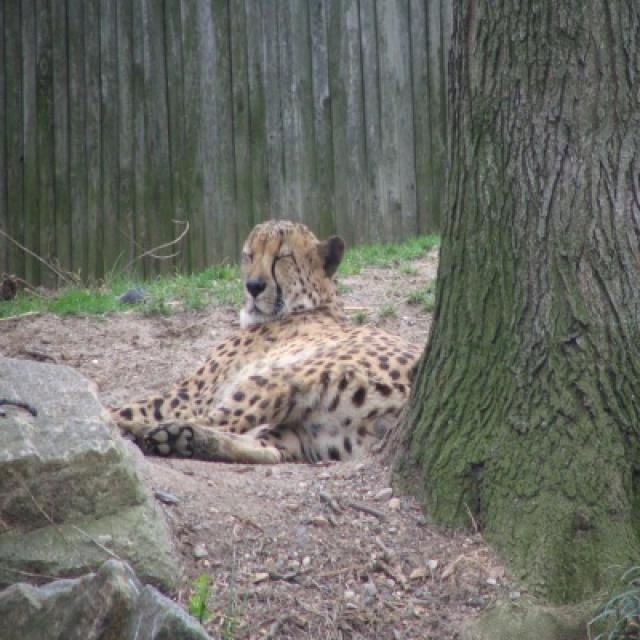Cheetah: (112, 217, 423, 463)
